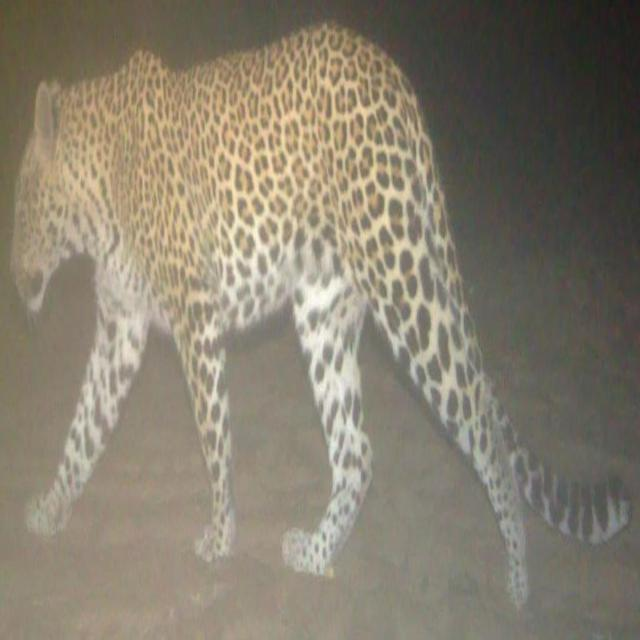Leopard: (6, 32, 631, 628)
